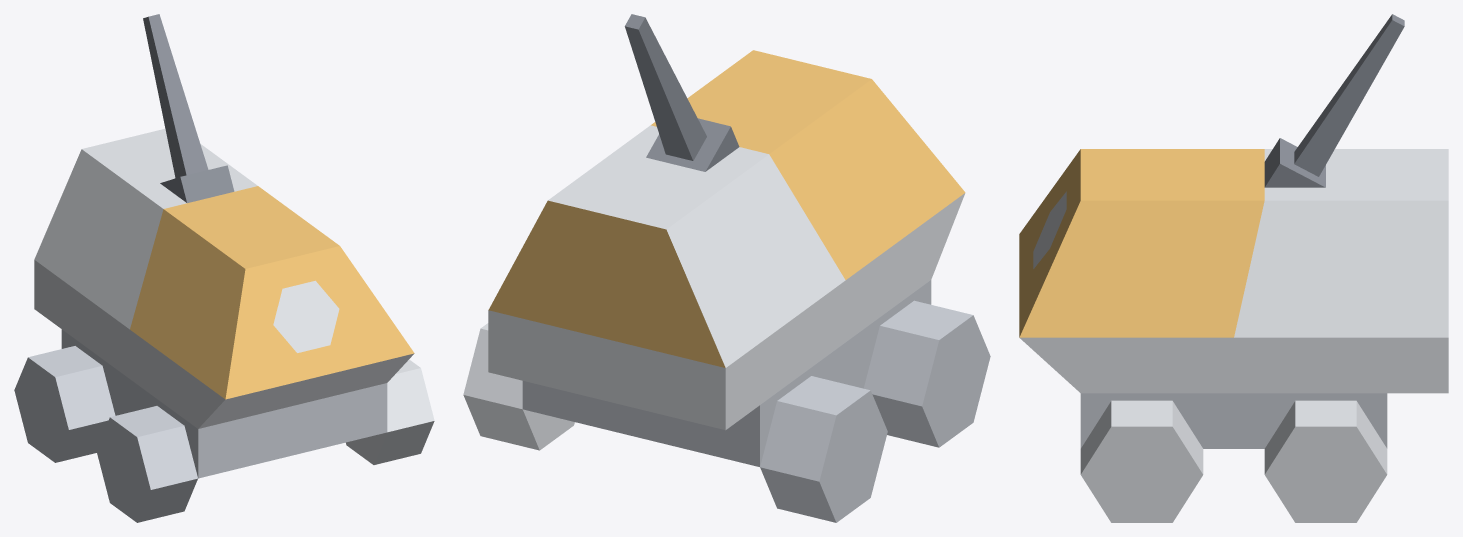
The model's file is Rover.fbx.
The picture shows the model from 3 angles, left to right: view 1: azimuth 30°, elevation 25°; view 2: azimuth 150°, elevation 25°; view 3: azimuth 270°, elevation 25°; orthographic projection. The views are drawn at different scales.
Visible parts, largest first — view 1: rover, Wheel_FrontRight, Wheel_BackRight, Wheel_FrontLeft; view 2: rover, Wheel_BackRight, Wheel_FrontRight, Wheel_BackLeft; view 3: rover, Wheel_FrontLeft, Wheel_BackLeft.
Part boxes in pixels (x1,y1,x2,y2): rover: (34, 14, 414, 478); Wheel_FrontRight: (96, 406, 197, 522); Wheel_BackRight: (14, 346, 115, 462); Wheel_FrontLeft: (346, 359, 434, 464); rover: (488, 14, 965, 466); Wheel_BackRight: (760, 376, 887, 522); Wheel_FrontRight: (863, 300, 990, 447); Wheel_BackLeft: (463, 323, 574, 450); rover: (1019, 14, 1448, 448); Wheel_FrontLeft: (1080, 400, 1203, 522); Wheel_BackLeft: (1264, 400, 1387, 522).
Size of the model in its own units: 30 by 38.53 by 35.
